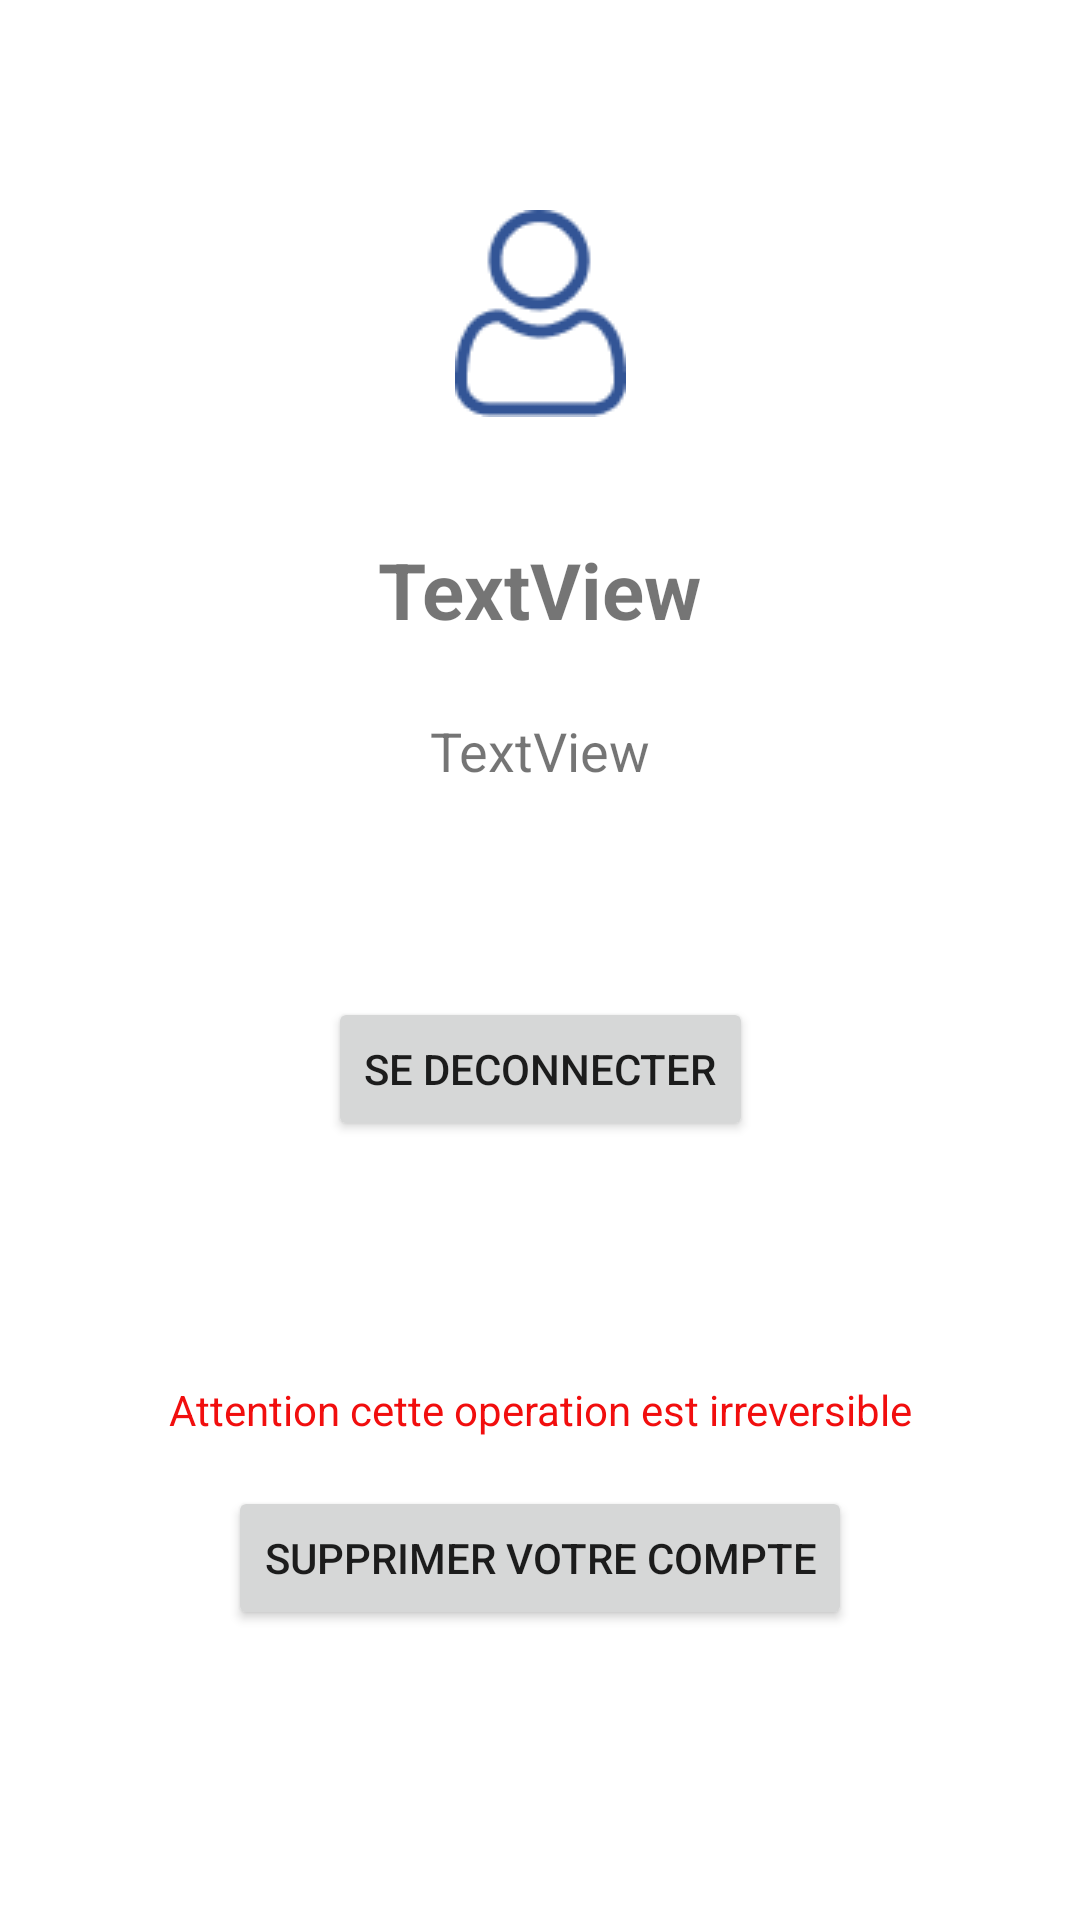

Named icons in this screenshot (1080*1920) and their bounding boxes, (x1, y1, x2, y2):
profpatient: (455, 210, 626, 417)
